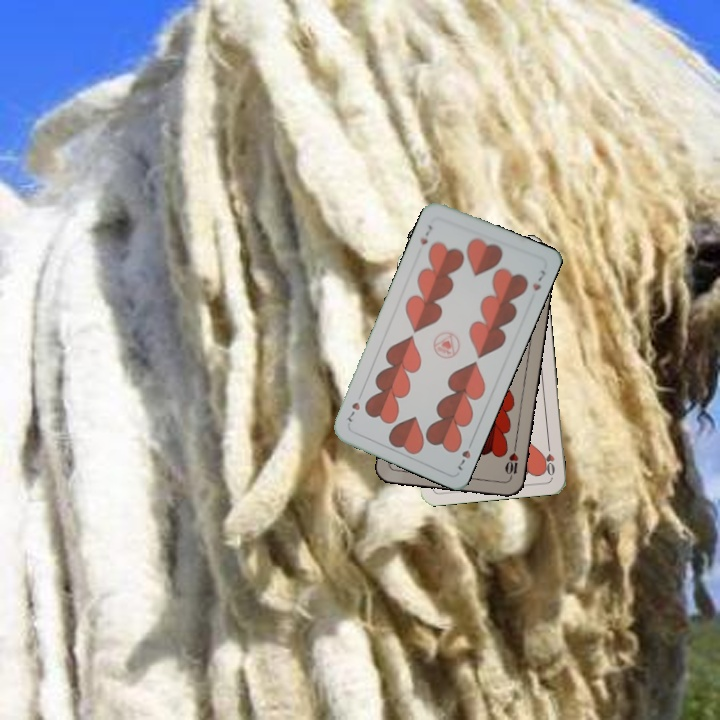H10: (501, 442, 521, 483)
H7: (454, 435, 476, 473), (416, 221, 435, 247)
HO: (540, 438, 557, 478)
